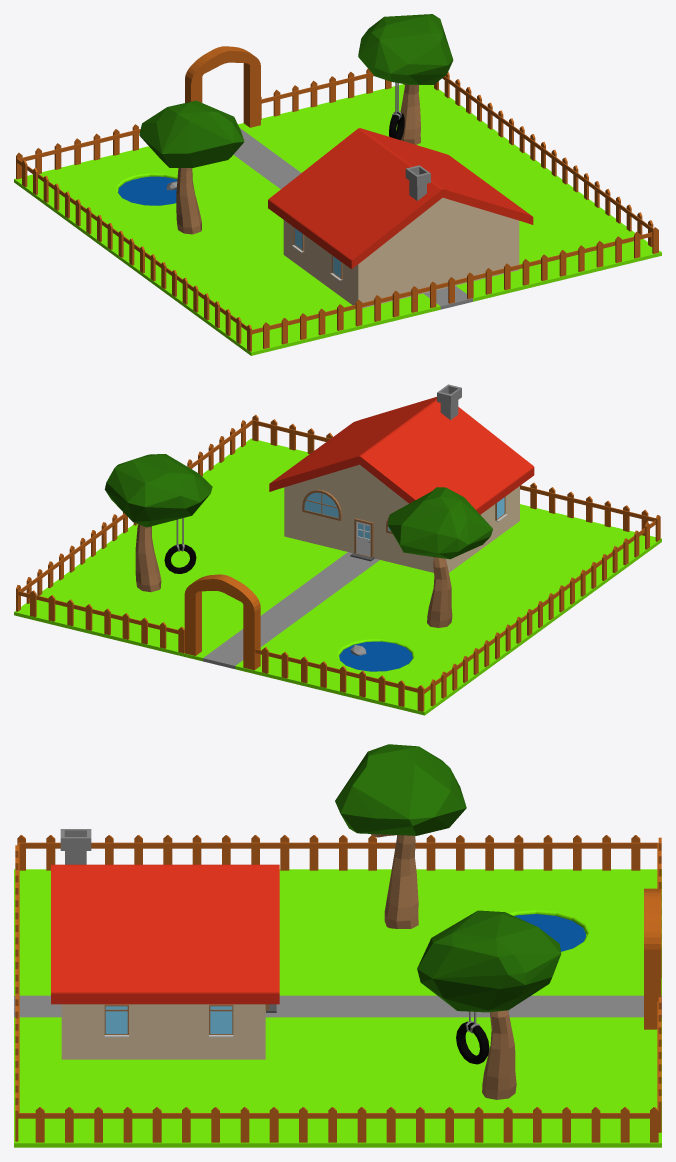
File: Casa_2_.fbx
The picture shows the model from 3 angles, top to bottom: view 1: azimuth 30°, elevation 25°; view 2: azimuth 150°, elevation 25°; view 3: azimuth 270°, elevation 25°; orthographic projection. The views are drawn at different scales.
Visible parts, largest first — view 1: Plane.001, Casa, Cerca, Folhas, Folhas.001, Portao, Plane, Tronco.001, Tronco, Cube.001; view 2: Plane.001, Casa, Cerca, Folhas, Folhas.001, Portao, Plane, Tronco.001, Tronco, Janela 4.001, Porta 2, Baloiço (+1 smaller); view 3: Plane.001, Casa, Cerca, Folhas, Folhas.001, Tronco.001, Portao, Tronco, Janela 2, Plane, Cube.001, Baloiço.
Boxes of the visible parts, bbox=[...] form: Plane.001: bbox=[14, 84, 661, 355]; Casa: bbox=[268, 128, 533, 308]; Cerca: bbox=[16, 69, 658, 351]; Folhas: bbox=[358, 14, 453, 84]; Folhas.001: bbox=[139, 100, 244, 167]; Portao: bbox=[185, 46, 260, 127]; Plane: bbox=[118, 176, 177, 205]; Tronco.001: bbox=[176, 168, 201, 234]; Tronco: bbox=[400, 84, 420, 144]; Cube.001: bbox=[405, 165, 430, 200]; Plane.001: bbox=[14, 438, 661, 715]; Casa: bbox=[269, 397, 534, 572]; Cerca: bbox=[16, 414, 660, 711]; Folhas: bbox=[104, 454, 212, 527]; Folhas.001: bbox=[387, 487, 492, 559]; Portao: bbox=[184, 574, 260, 670]; Plane: bbox=[339, 641, 412, 671]; Tronco.001: bbox=[427, 557, 452, 627]; Tronco: bbox=[135, 524, 161, 592]; Janela 4.001: bbox=[302, 489, 341, 520]; Porta 2: bbox=[354, 518, 373, 557]; Baloiço: bbox=[164, 518, 196, 573]; Plane.001: bbox=[14, 869, 661, 1147]; Casa: bbox=[51, 864, 279, 1059]; Cerca: bbox=[15, 835, 661, 1142]; Folhas: bbox=[417, 910, 561, 1012]; Folhas.001: bbox=[335, 744, 466, 835]; Tronco.001: bbox=[371, 834, 418, 928]; Portao: bbox=[644, 888, 661, 1029]; Tronco: bbox=[482, 1010, 516, 1099]; Janela 2: bbox=[104, 1004, 233, 1037]; Plane: bbox=[514, 914, 585, 951]; Cube.001: bbox=[60, 829, 91, 864]; Baloiço: bbox=[456, 1011, 489, 1064].
Bounding box in the file's own units: 649 × 649 × 197.
